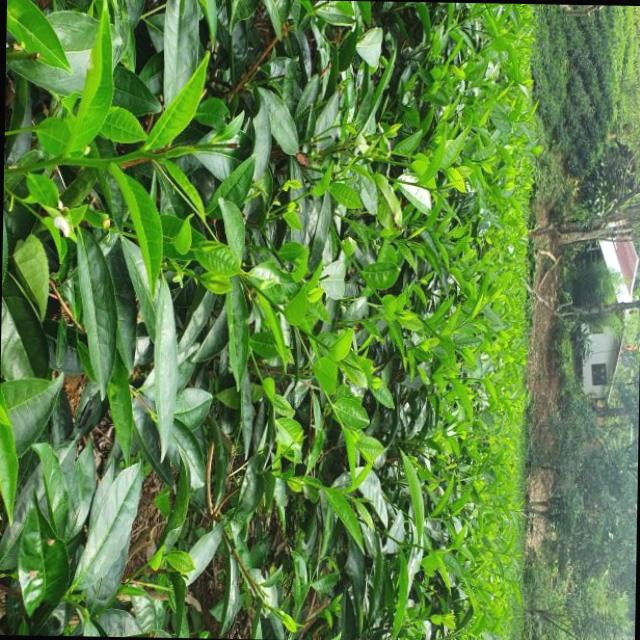Stem: (134, 150, 143, 157), (339, 489, 344, 494), (428, 188, 432, 192), (427, 549, 430, 552)
